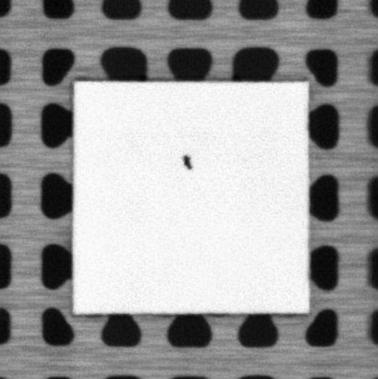DIE_INK: (180, 152, 195, 171)
